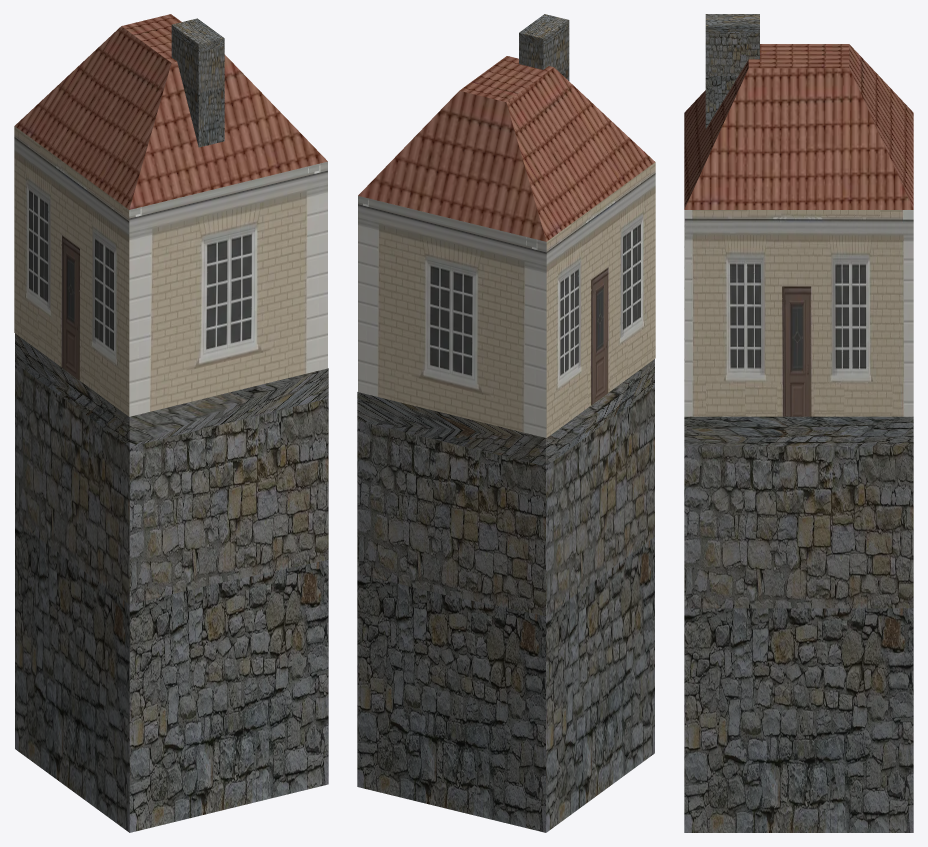
Rendered from house.glb.
3 views of the same model, side by side, from view 1: azimuth 30°, elevation 25°; view 2: azimuth 150°, elevation 25°; view 3: azimuth 270°, elevation 25° (orthographic). The views are drawn at different scales.
Parts seen in each view (by area): view 1: Cube.001, Cube; view 2: Cube.001, Cube; view 3: Cube.001, Cube.
Part boxes in pixels (<box>): Cube.001: <box>15,18,328,832</box>; Cube: <box>14,14,327,416</box>; Cube.001: <box>357,14,654,832</box>; Cube: <box>358,56,655,437</box>; Cube.001: <box>684,14,913,832</box>; Cube: <box>684,44,913,416</box>.
Bounding box in the file's own units: 1 × 3.66 × 1.
5 materials, 5 textured.
